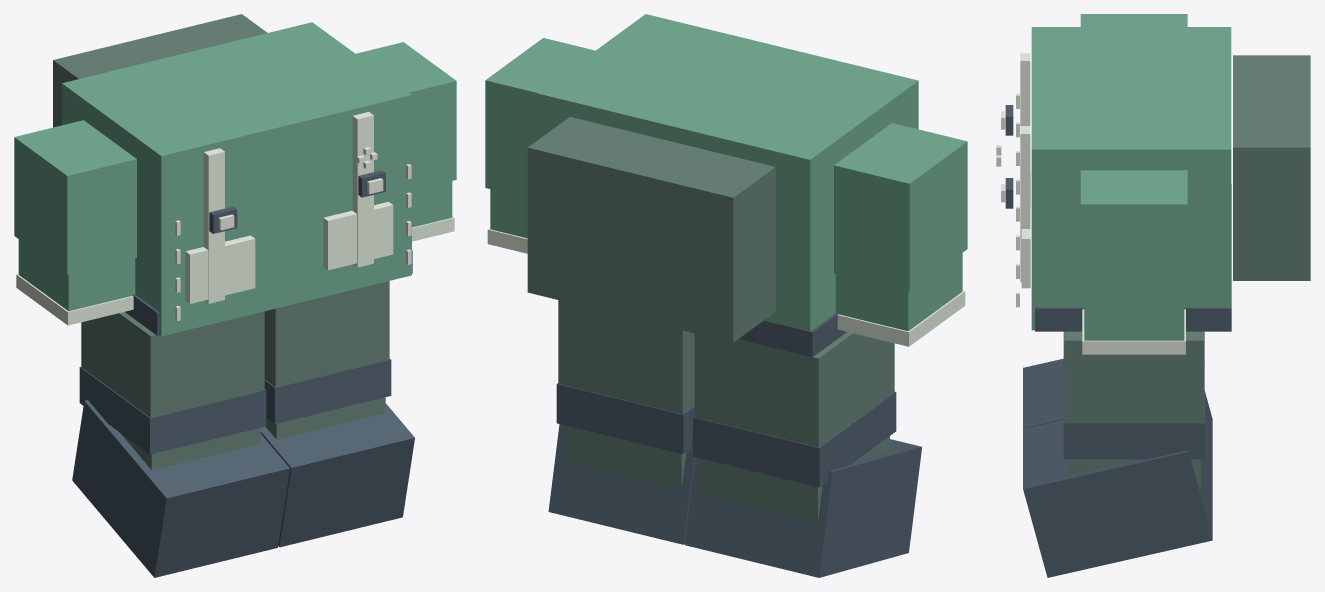
Rendered from explorer-emerald.glb.
3 renders of one model, left to right at view 1: azimuth 30°, elevation 25°; view 2: azimuth 150°, elevation 25°; view 3: azimuth 270°, elevation 25°, orthographic. The views are drawn at different scales.
Visible parts, largest first — view 1: jacket, shoe-Right, upper-sleeve-Right, trouser-Right, shoe-Left, trouser-Left, upper-sleeve-Left, boot-cuff-Right, backpack, boot-cuff-Left, lower-sleeve-Right, pocket--1 (+9 smaller); view 2: jacket, backpack, upper-sleeve-Right, shoe-Right, trouser-Right, trouser-Left, boot-cuff-Right, upper-sleeve-Left, shoe-Left, boot-cuff-Left, lower-sleeve-Right, lower-trouser-Right (+5 smaller); view 3: jacket, shoe-Left, backpack, upper-sleeve-Left, trouser-Left, boot-cuff-Left, lower-sleeve-Left, shoe-Right, trail-belt, cuff-Left, upper-sleeve-Right, backpack-strap.001 (+3 smaller).
Part boxes in pixels (left/top/right/bottom): jacket: left=62, top=22, right=411, bottom=336; shoe-Right: left=72, top=400, right=289, bottom=577; upper-sleeve-Right: left=14, top=120, right=136, bottom=274; trouser-Right: left=81, top=311, right=264, bottom=417; shoe-Left: left=260, top=403, right=414, bottom=547; trouser-Left: left=264, top=281, right=389, bottom=387; upper-sleeve-Left: left=356, top=42, right=456, bottom=190; boot-cuff-Right: left=79, top=367, right=266, bottom=454; backpack: left=53, top=14, right=267, bottom=127; boot-cuff-Left: left=264, top=359, right=391, bottom=423; lower-sleeve-Right: left=18, top=239, right=135, bottom=311; pocket--1: left=185, top=235, right=255, bottom=303; jacket: left=537, top=14, right=918, bottom=331; backpack: left=527, top=117, right=775, bottom=342; upper-sleeve-Right: left=834, top=123, right=967, bottom=291; shoe-Right: left=684, top=439, right=921, bottom=577; trouser-Right: left=694, top=332, right=894, bottom=447; trouser-Left: left=558, top=300, right=694, bottom=414; boot-cuff-Right: left=693, top=391, right=896, bottom=487; upper-sleeve-Left: left=485, top=38, right=594, bottom=197; shoe-Left: left=548, top=424, right=695, bottom=544; boot-cuff-Left: left=556, top=383, right=694, bottom=453; lower-sleeve-Right: left=835, top=253, right=962, bottom=331; lower-trouser-Right: left=699, top=436, right=889, bottom=523; jacket: left=1031, top=27, right=1231, bottom=330; shoe-Left: left=1023, top=420, right=1212, bottom=577; backpack: left=1233, top=55, right=1310, bottom=280; upper-sleeve-Left: left=1080, top=170, right=1187, bottom=303; trouser-Left: left=1064, top=331, right=1203, bottom=422; boot-cuff-Left: left=1063, top=366, right=1204, bottom=459; lower-sleeve-Left: left=1084, top=303, right=1184, bottom=340; shoe-Right: left=1023, top=358, right=1212, bottom=478; trail-belt: left=1035, top=184, right=1231, bottom=331; cuff-Left: left=1082, top=309, right=1185, bottom=354; upper-sleeve-Right: left=1080, top=14, right=1187, bottom=26; backpack-strap.001: left=1020, top=126, right=1030, bottom=282.
Size of the model in its own units: 1.07 by 1.13 by 0.748.
